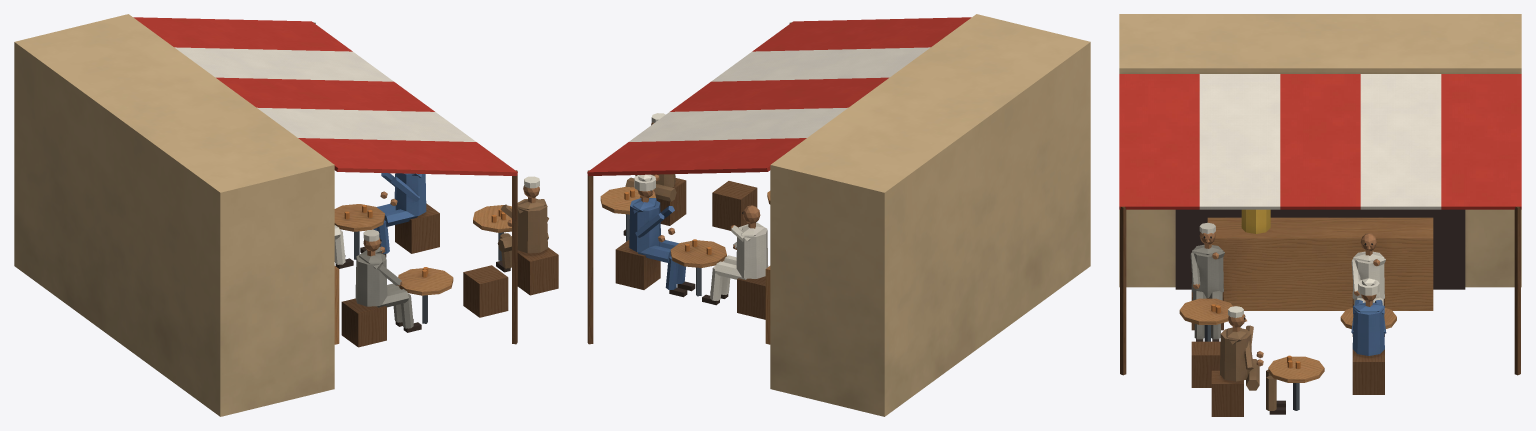
File: tehus_tex.glb
The picture shows the model from 3 angles, left to right: view 1: azimuth 30°, elevation 25°; view 2: azimuth 150°, elevation 25°; view 3: azimuth 270°, elevation 25°; orthographic projection. The views are drawn at different scales.
Visible parts, largest first — view 1: tehus; view 2: tehus; view 3: tehus.
Part boxes in pixels (x1,y1,x2,y2): tehus: (14,14,558,416); tehus: (587,14,1090,416); tehus: (1119,14,1521,416).
Size of the model in its own units: 5.53 by 3 by 5.
Materials: 16 (12 with a texture image).
